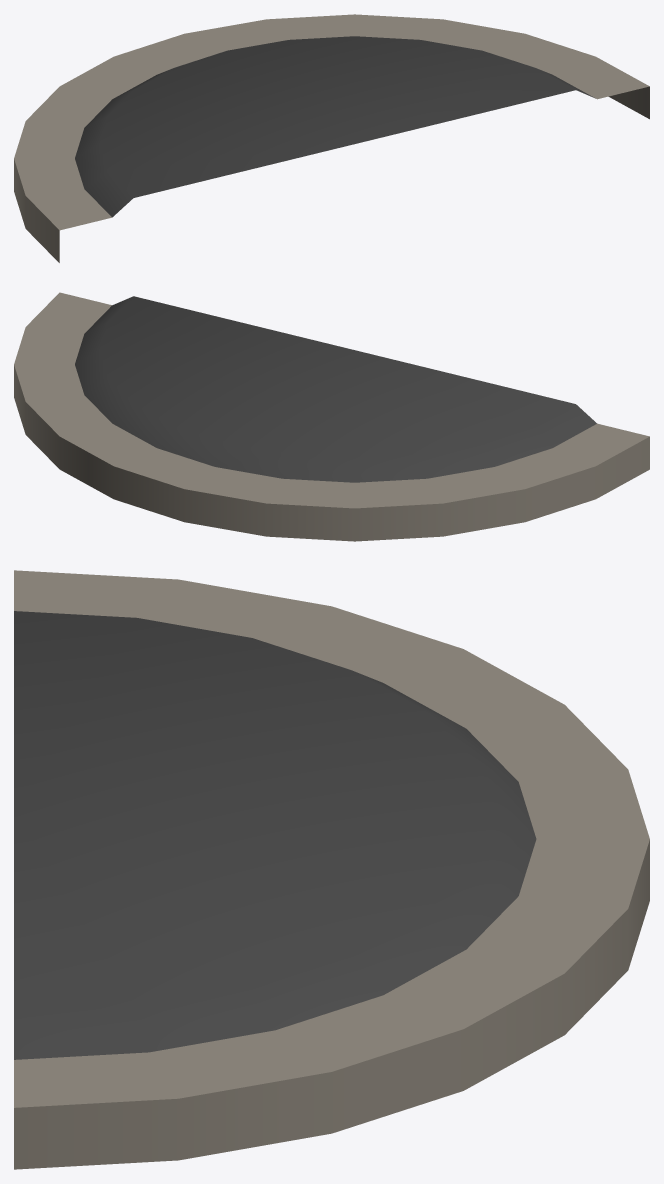
Rendered from RoadMid_3_D.fbx.
3 views of the same model, one above another, from view 1: azimuth 30°, elevation 25°; view 2: azimuth 150°, elevation 25°; view 3: azimuth 270°, elevation 25° (orthographic). The views are drawn at different scales.
Parts seen in each view (by area): view 1: RoadMid_3_D; view 2: RoadMid_3_D; view 3: RoadMid_3_D.
Part boxes in pixels (box(x1,y1,x2,y2)): RoadMid_3_D: box(14, 14, 649, 262); RoadMid_3_D: box(14, 292, 649, 541); RoadMid_3_D: box(14, 570, 649, 1169).
Size of the model in its own units: 299 by 22.96 by 150.
